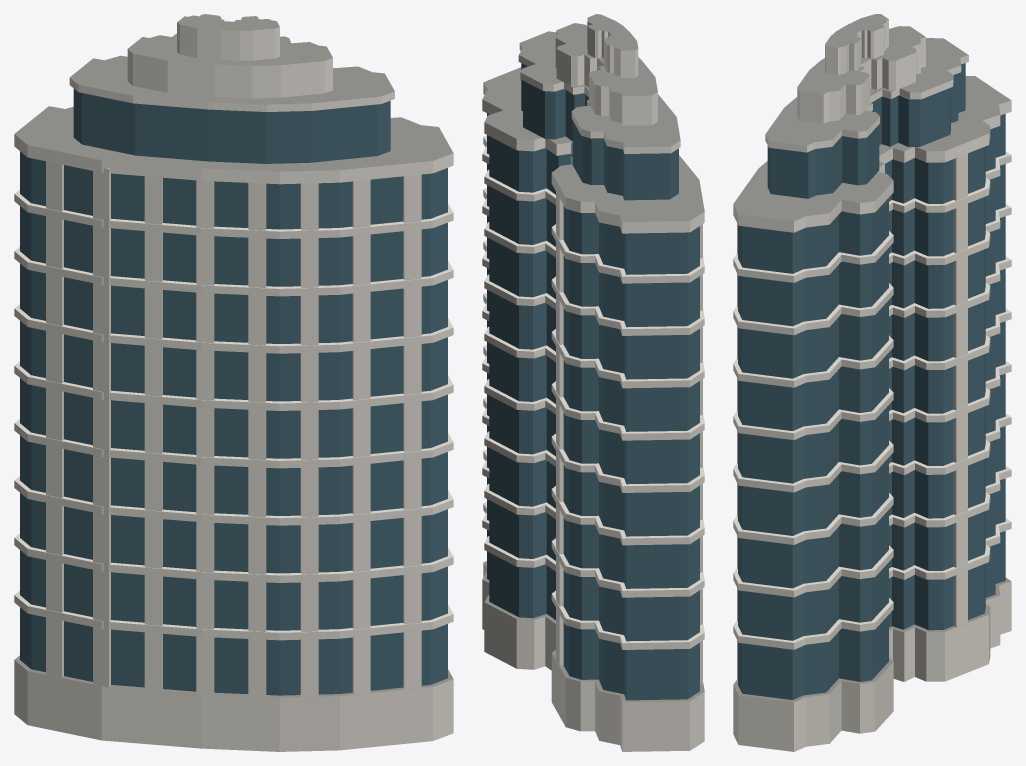
Rendered from west_tower_w134918082.glb.
3 views of the same model, side by side, from view 1: azimuth 30°, elevation 25°; view 2: azimuth 150°, elevation 25°; view 3: azimuth 270°, elevation 25° (orthographic). The views are drawn at different scales.
Visible parts, largest first — view 1: Tower_w134918082; view 2: Tower_w134918082; view 3: Tower_w134918082.
Boxes of the visible parts, box(x1,y1,x2,y2) form: Tower_w134918082: box(14, 14, 453, 751); Tower_w134918082: box(482, 14, 704, 751); Tower_w134918082: box(733, 14, 1011, 751).
Size of the model in its own units: 68.65 by 141 by 55.34.
